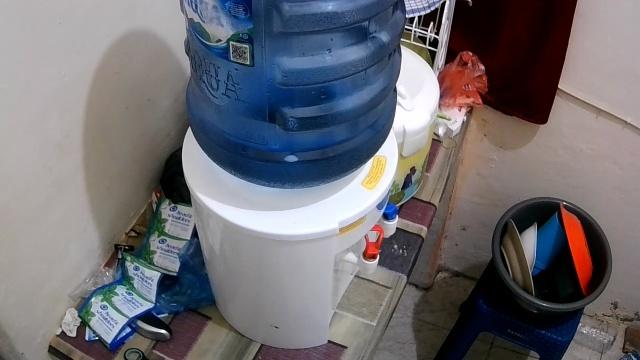Dispenser: (180, 0, 408, 349)
